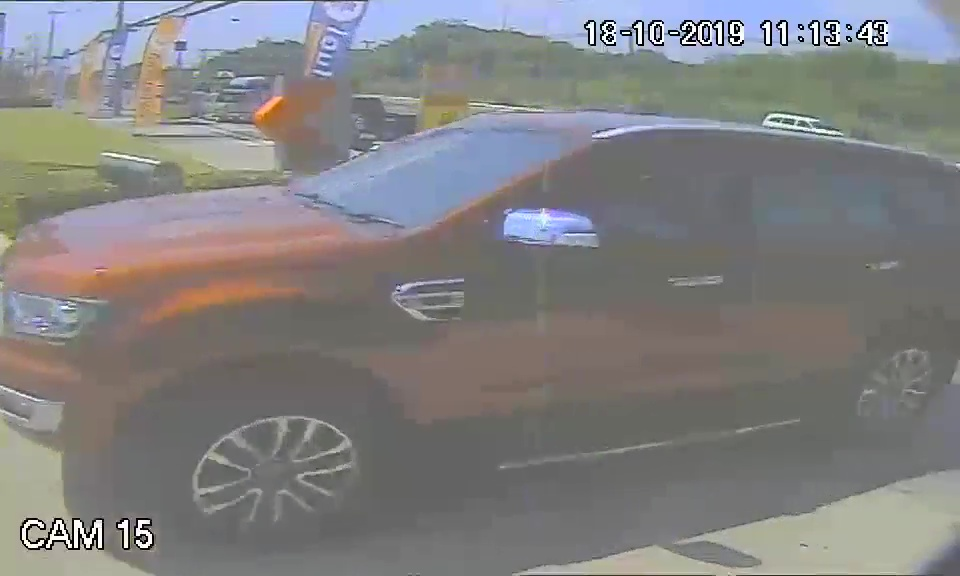pickup: (2, 103, 959, 509)
